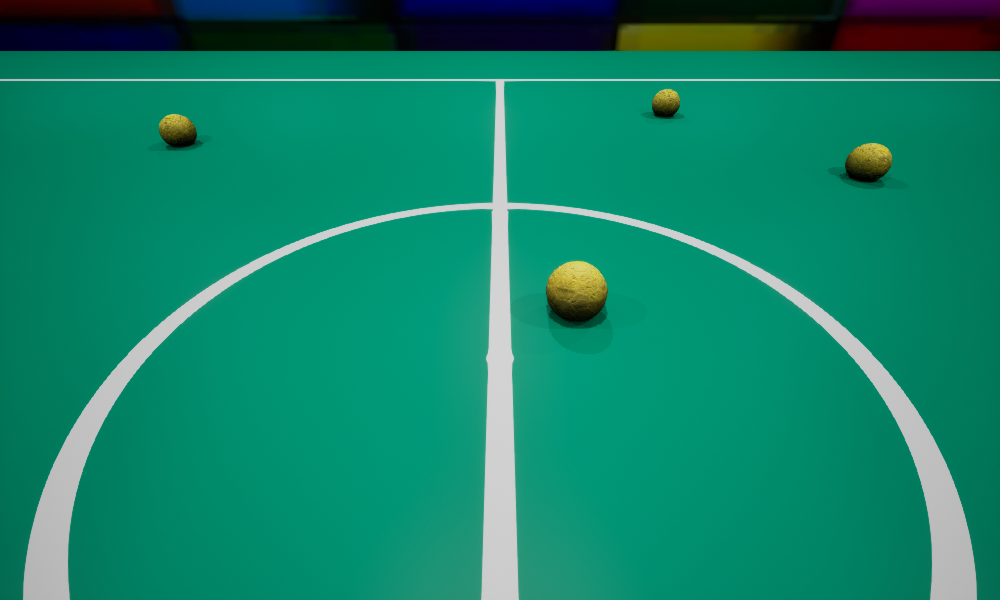b: (546, 261, 607, 320), (845, 143, 891, 181), (159, 114, 196, 146), (652, 89, 679, 116)
